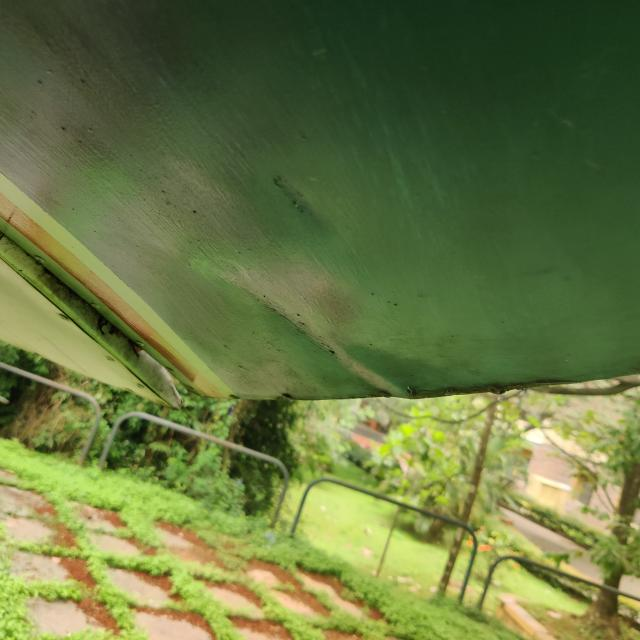dent: (198, 254, 438, 424), (250, 150, 354, 246)
